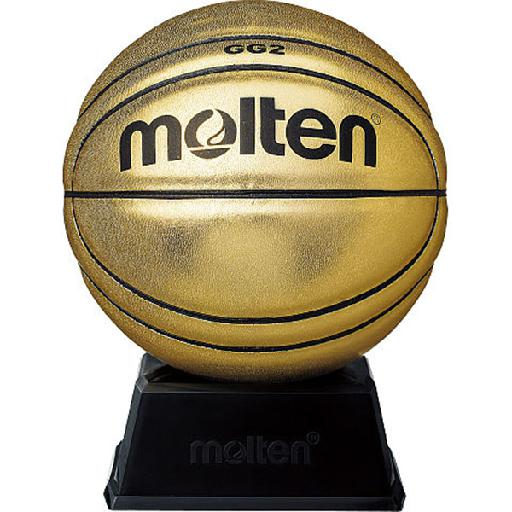ball: (63, 1, 447, 381)
